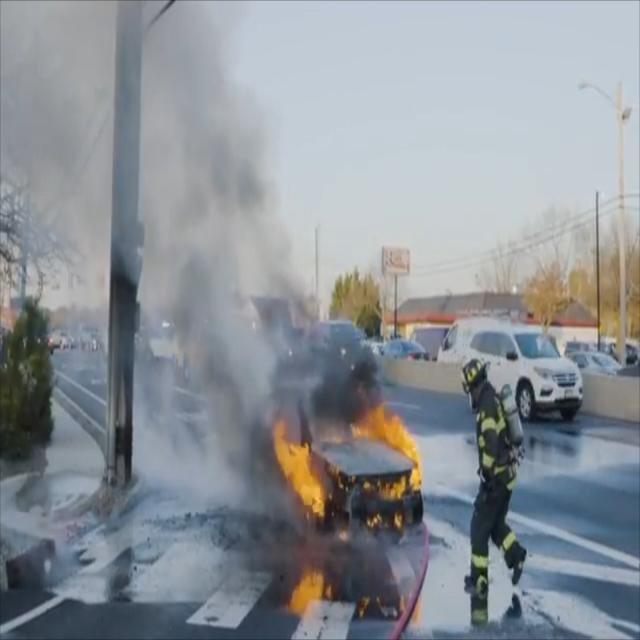fire: (270, 372, 428, 531), (286, 568, 408, 616)
